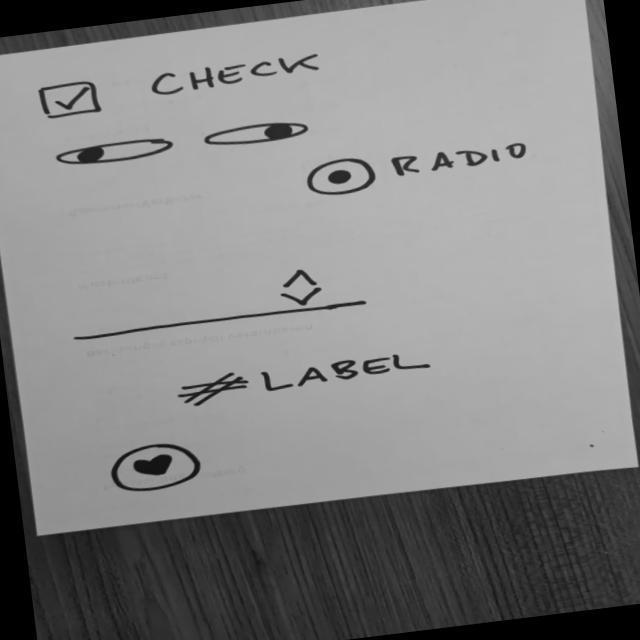checkbox: (36, 48, 333, 123)
icon-button: (105, 437, 209, 499)
label: (172, 344, 437, 412)
number-input: (63, 259, 374, 346)
radio: (301, 133, 540, 201)
toggle: (51, 135, 181, 173), (201, 117, 315, 152)
